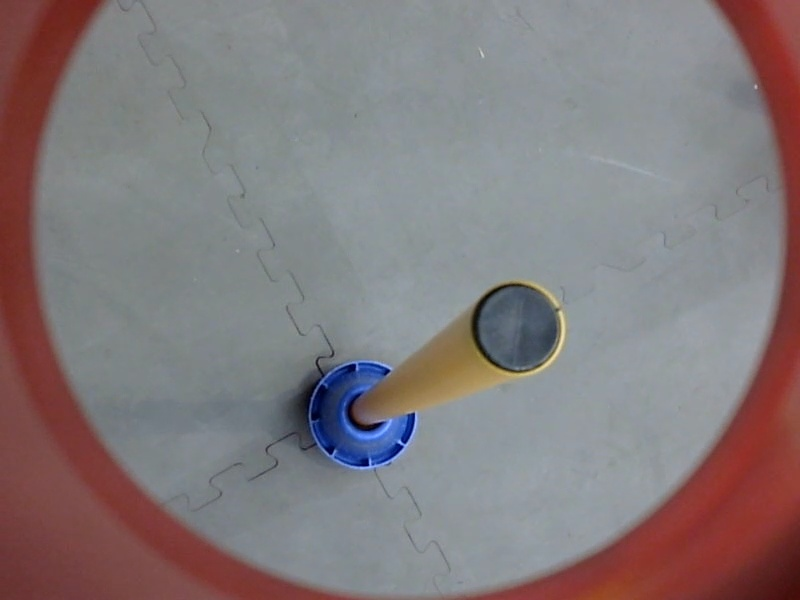tip: (464, 271, 573, 387)
